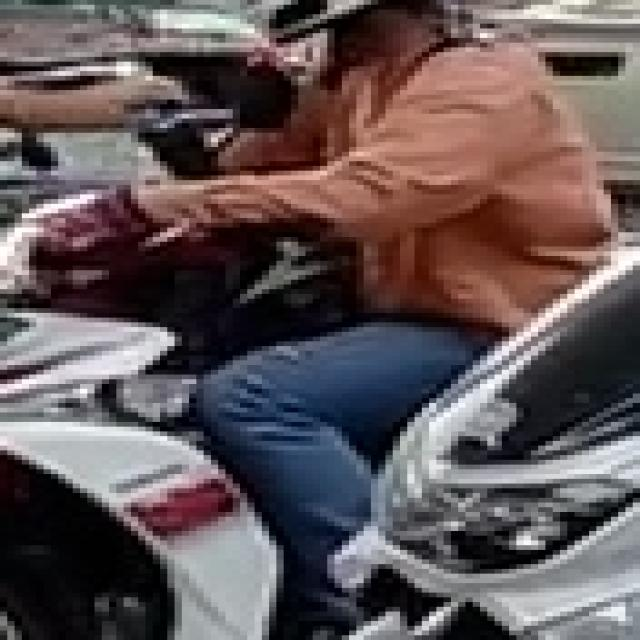door: (524, 29, 632, 180)
